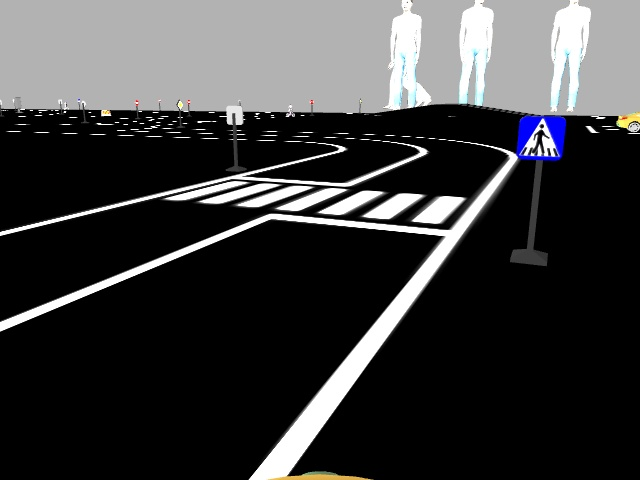Crosswalk: (517, 115, 563, 159)
